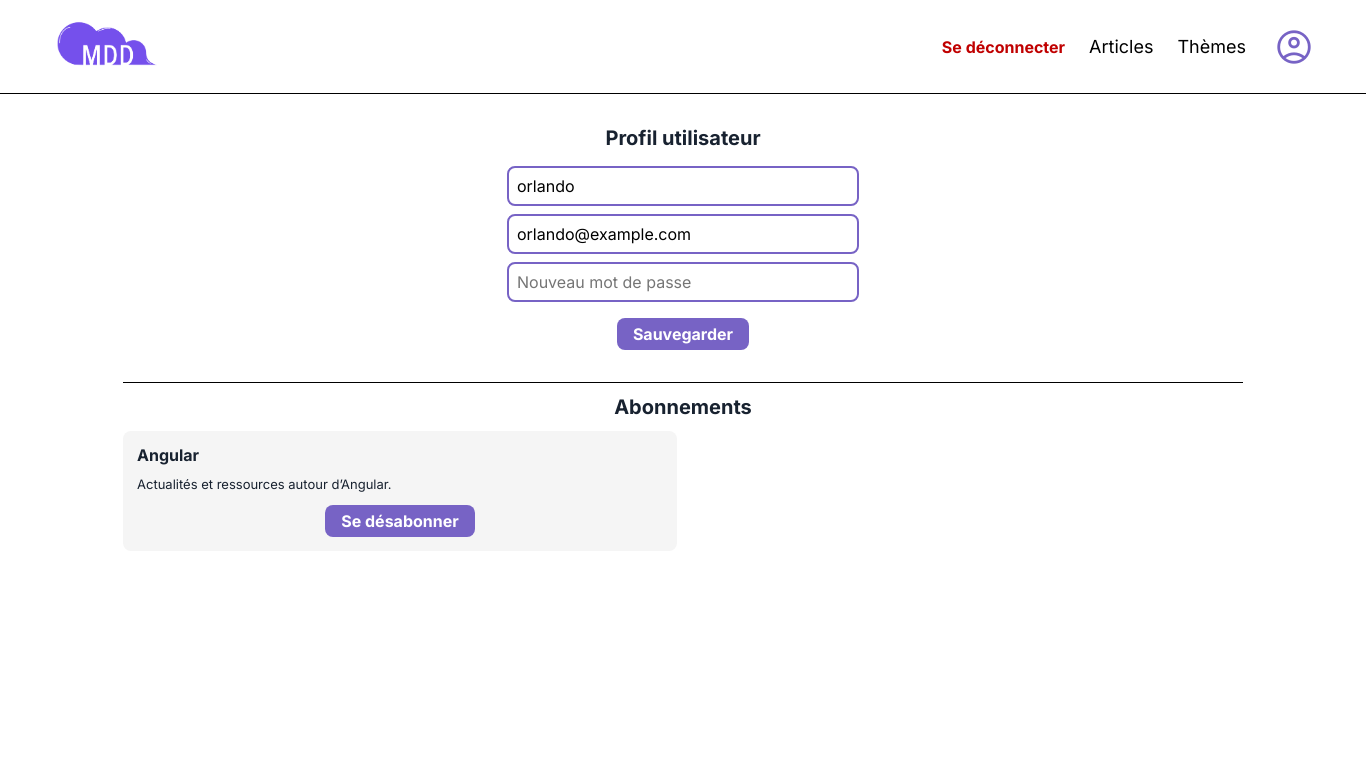
Test: Profil utilisateur › désabonne un thème depuis le profil
Step 1. Click the button "Se désabonner" → (400, 521), box [325,505,475,537]
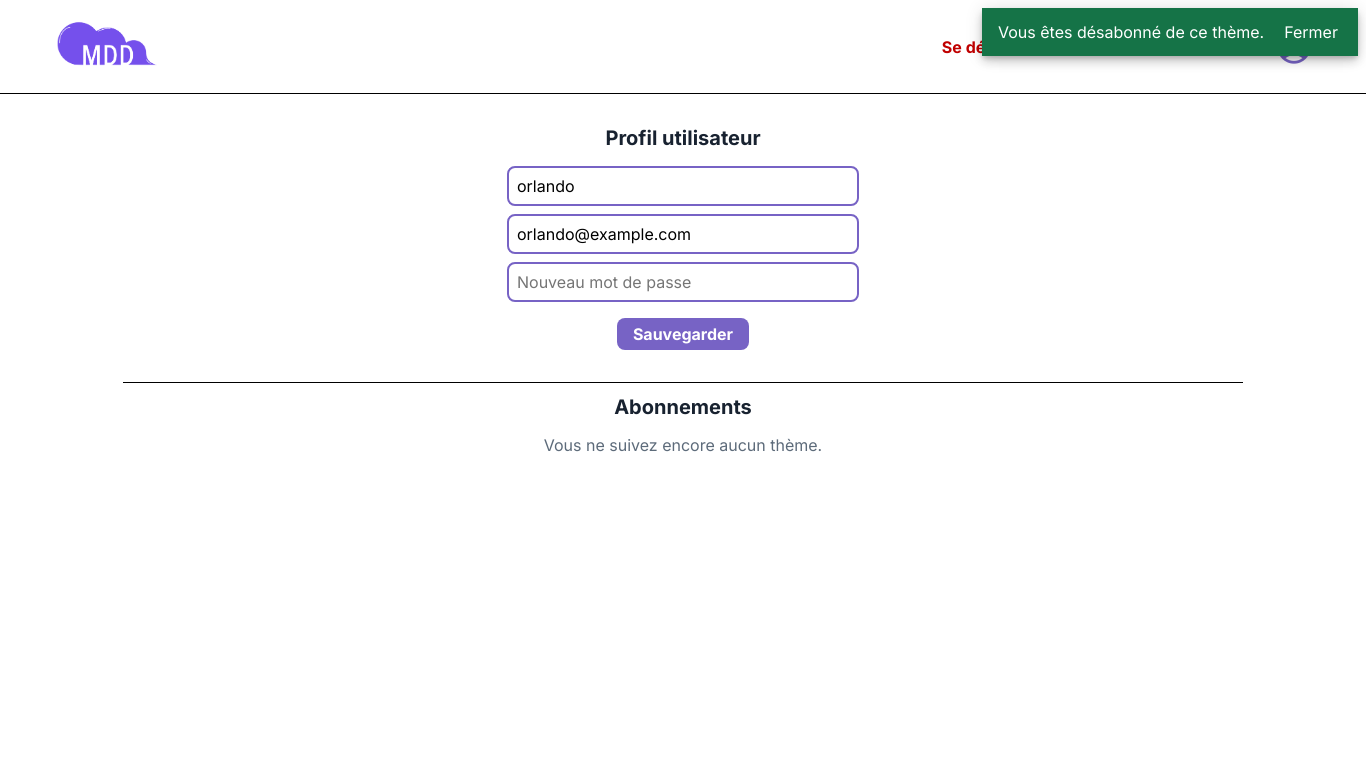
Result: the heading "Angular" is gone
